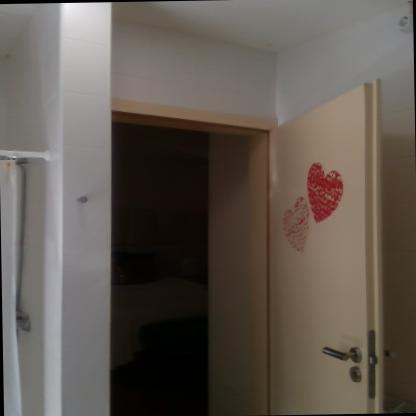open: (115, 65, 397, 416)
